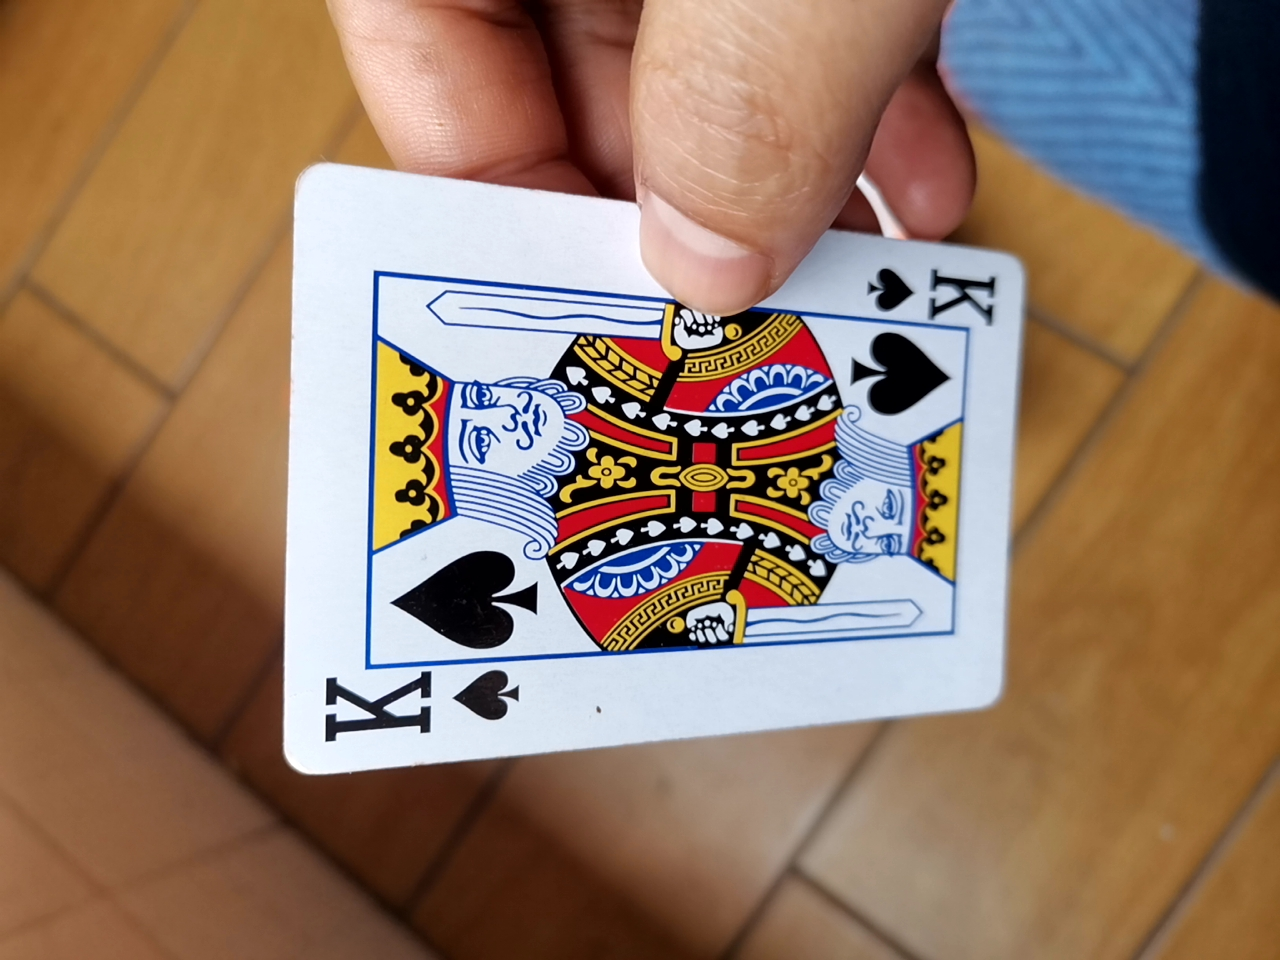ht k: (258, 173, 1022, 792)
